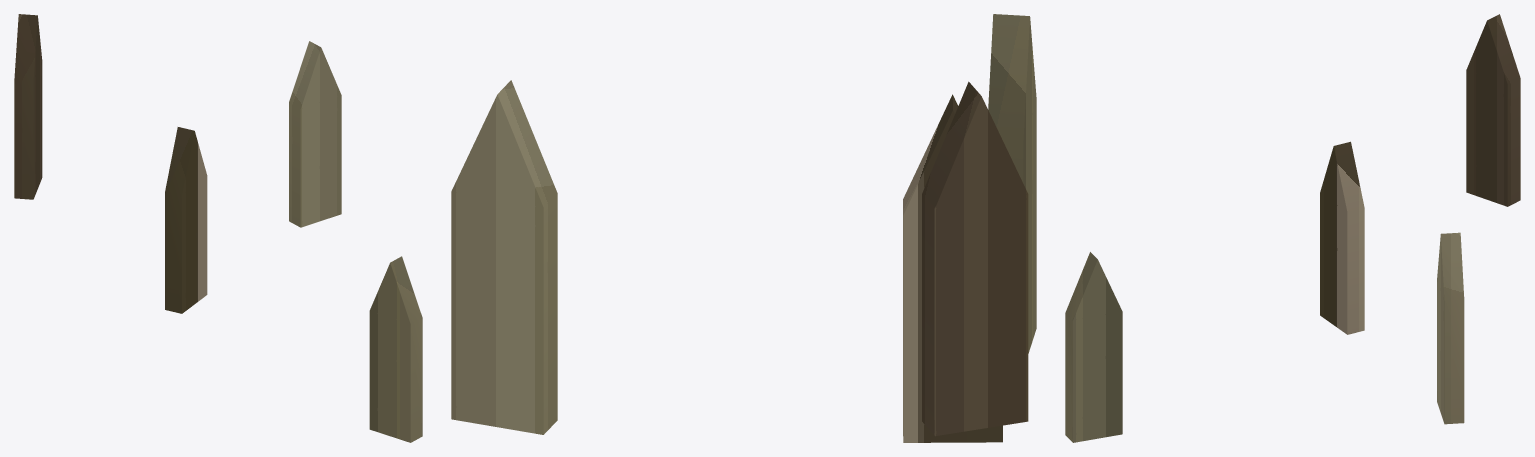
File: tile_-3_3.glb
3 views of the same model, side by side, from view 1: azimuth 30°, elevation 25°; view 2: azimuth 150°, elevation 25°; view 3: azimuth 270°, elevation 25° (orthographic). The views are drawn at different scales.
Parts seen in each view (by area): view 1: mesh[7].002; view 2: mesh[7].002; view 3: mesh[7].002.
Boxes of the visible parts, x1,y1,x2,y2 form: mesh[7].002: (14,14,422,442); mesh[7].002: (451,14,1036,442); mesh[7].002: (1065,14,1520,442).
Bounding box in the file's own units: 83.31 × 81.86 × 102.
1 material, 1 textured.
